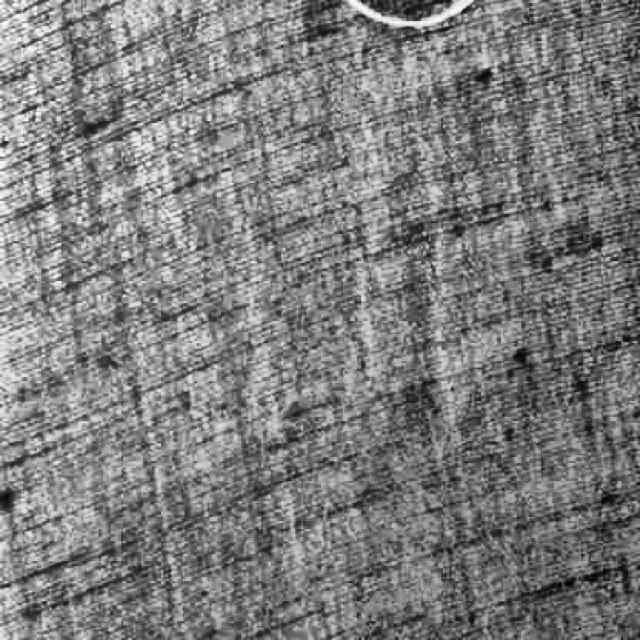objects: (345, 0, 481, 42)
